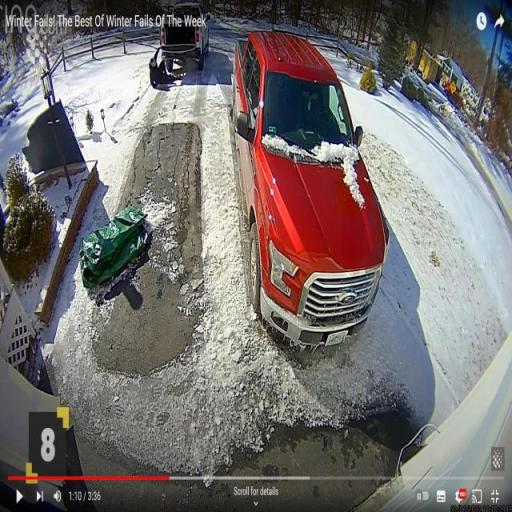Fall: (148, 46, 182, 90)
